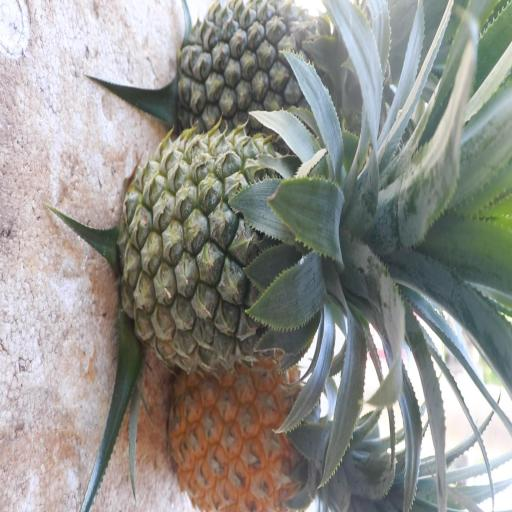------------------------------: (123, 137, 340, 358)
Pineapple - v8 v1: (174, 357, 333, 512)
